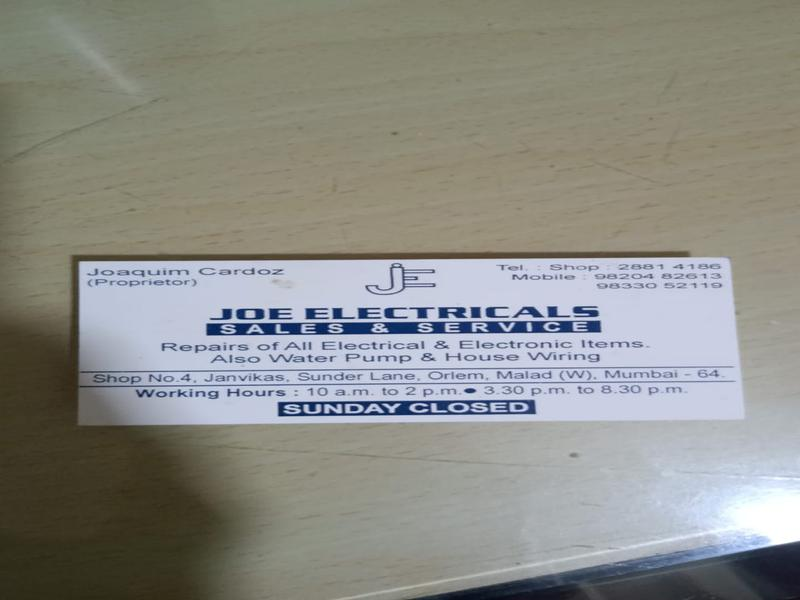card: (77, 257, 745, 423)
